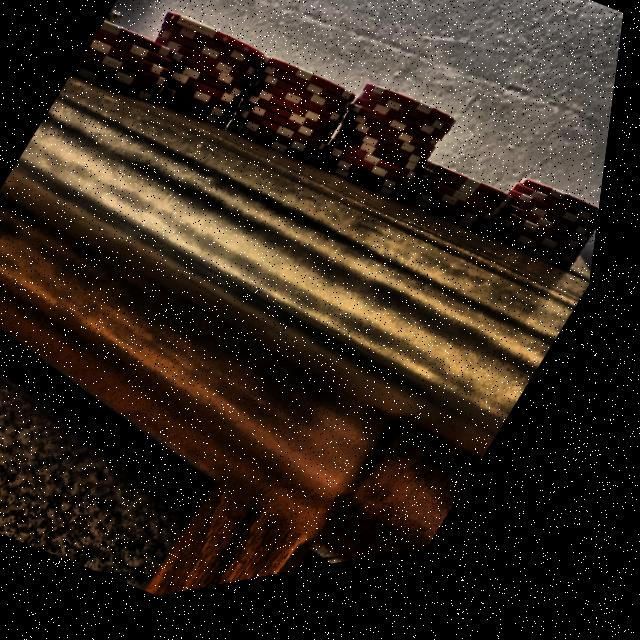Chip: (287, 48, 492, 249), (107, 0, 296, 171), (205, 40, 382, 213), (476, 174, 613, 325), (391, 152, 540, 286), (57, 7, 199, 146)
